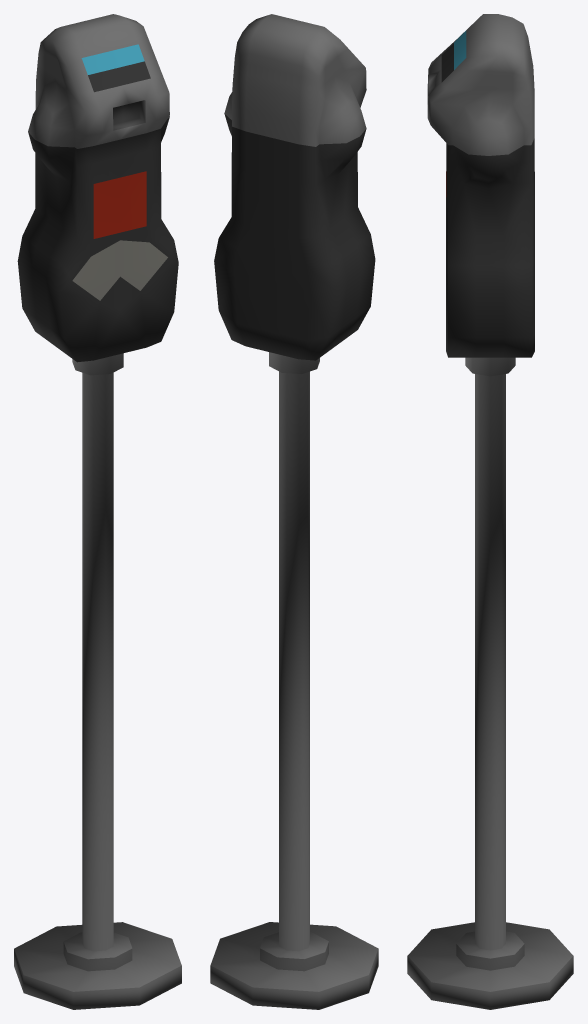
3 views of the same model, side by side, from view 1: azimuth 30°, elevation 25°; view 2: azimuth 150°, elevation 25°; view 3: azimuth 270°, elevation 25° (orthographic).
Parts seen in each view (by area): view 1: ParkingMeter; view 2: ParkingMeter; view 3: ParkingMeter.
Part boxes in pixels (left/top/right/bottom): ParkingMeter: left=14, top=14, right=181, bottom=1009; ParkingMeter: left=210, top=14, right=378, bottom=1009; ParkingMeter: left=407, top=14, right=573, bottom=1009.
Size of the model in its own units: 0.0818 by 0.5 by 0.0795.
